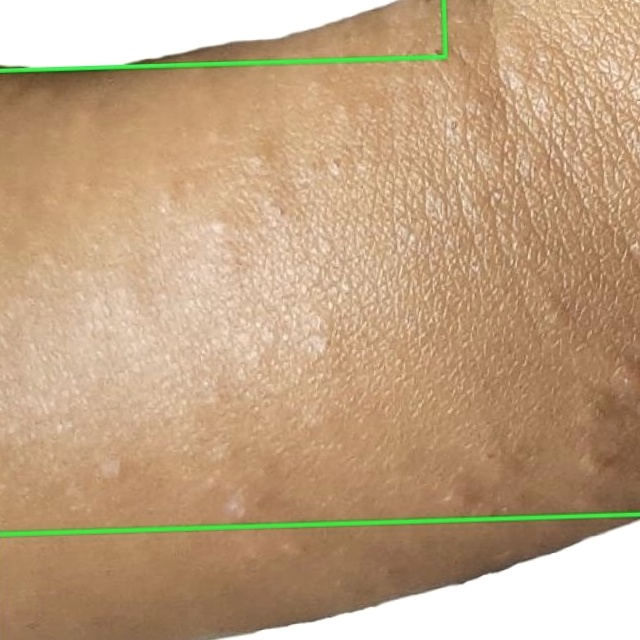Contact Dermatitis: (0, 514, 639, 639), (0, 0, 445, 70)
